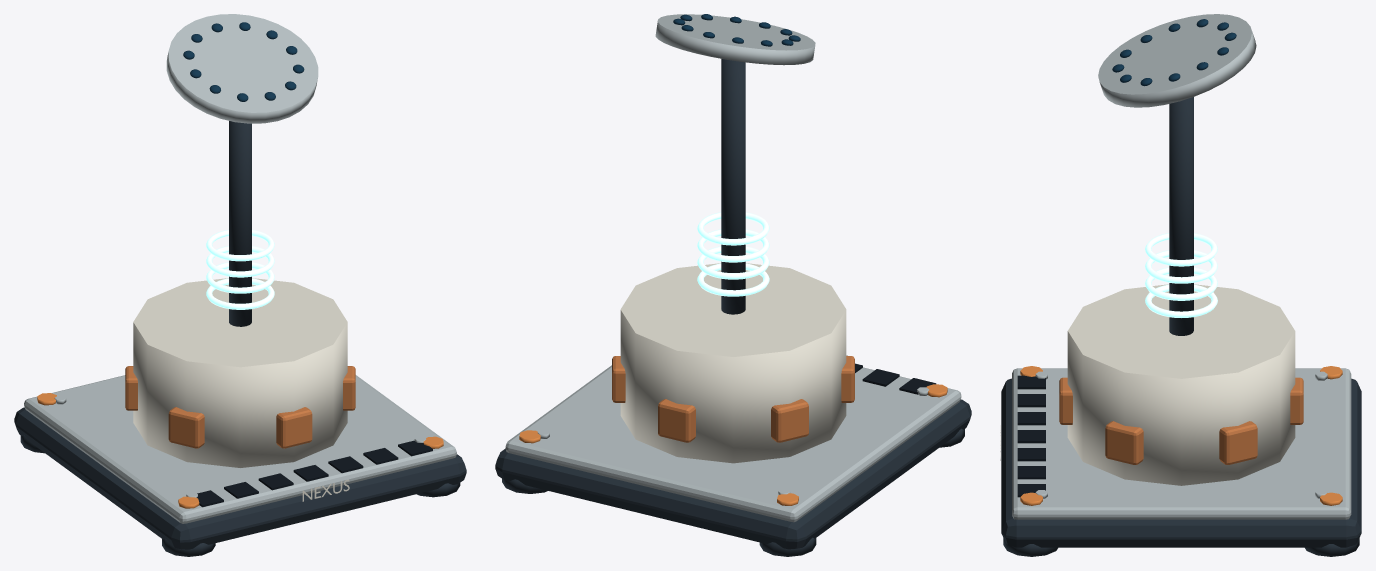
Rendered from relay.glb.
3 views of the same model, side by side, from view 1: azimuth 30°, elevation 25°; view 2: azimuth 150°, elevation 25°; view 3: azimuth 270°, elevation 25° (orthographic). The views are drawn at different scales.
Visible parts, largest first — view 1: relay_ROOT__01_Ivory_ceramic, relay_ROOT__07_Machined_titanium, relay_ROOT__02_Graphite_chassis, Idle_dish__07_Machined_titanium, relay_ROOT__04_Burnished_copper, relay_ROOT__status_light, relay_ROOT__03_Carbon_seals, Idle_dish__08_Photovoltaic_indigo, relay_ROOT__06_Mission_orange; view 2: relay_ROOT__01_Ivory_ceramic, relay_ROOT__07_Machined_titanium, relay_ROOT__02_Graphite_chassis, Idle_dish__07_Machined_titanium, relay_ROOT__04_Burnished_copper, relay_ROOT__status_light, Idle_dish__08_Photovoltaic_indigo, relay_ROOT__03_Carbon_seals, relay_ROOT__06_Mission_orange; view 3: relay_ROOT__01_Ivory_ceramic, relay_ROOT__07_Machined_titanium, relay_ROOT__02_Graphite_chassis, Idle_dish__07_Machined_titanium, relay_ROOT__04_Burnished_copper, relay_ROOT__status_light, relay_ROOT__03_Carbon_seals, Idle_dish__08_Photovoltaic_indigo, relay_ROOT__06_Mission_orange.
Boxes of the visible parts, x1=… form: relay_ROOT__01_Ivory_ceramic: x1=133, y1=278, x2=349, y2=501; relay_ROOT__07_Machined_titanium: x1=24, y1=375, x2=456, y2=523; relay_ROOT__02_Graphite_chassis: x1=14, y1=121, x2=466, y2=556; Idle_dish__07_Machined_titanium: x1=166, y1=14, x2=318, y2=123; relay_ROOT__04_Burnished_copper: x1=125, y1=366, x2=355, y2=448; relay_ROOT__status_light: x1=206, y1=229, x2=274, y2=309; relay_ROOT__03_Carbon_seals: x1=197, y1=440, x2=432, y2=507; Idle_dish__08_Photovoltaic_indigo: x1=183, y1=22, x2=304, y2=101; relay_ROOT__06_Mission_orange: x1=37, y1=393, x2=443, y2=508; relay_ROOT__01_Ivory_ceramic: x1=620, y1=263, x2=847, y2=463; relay_ROOT__07_Machined_titanium: x1=505, y1=365, x2=961, y2=522; relay_ROOT__02_Graphite_chassis: x1=495, y1=59, x2=971, y2=556; Idle_dish__07_Machined_titanium: x1=655, y1=14, x2=815, y2=65; relay_ROOT__04_Burnished_copper: x1=612, y1=356, x2=854, y2=442; relay_ROOT__status_light: x1=697, y1=212, x2=769, y2=296; Idle_dish__08_Photovoltaic_indigo: x1=673, y1=14, x2=800, y2=46; relay_ROOT__03_Carbon_seals: x1=855, y1=363, x2=936, y2=394; relay_ROOT__06_Mission_orange: x1=519, y1=384, x2=947, y2=505; relay_ROOT__01_Ivory_ceramic: x1=1000, y1=284, x2=1295, y2=485; relay_ROOT__07_Machined_titanium: x1=1012, y1=368, x2=1351, y2=519; relay_ROOT__02_Graphite_chassis: x1=1001, y1=97, x2=1361, y2=556; Idle_dish__07_Machined_titanium: x1=1098, y1=14, x2=1256, y2=107; relay_ROOT__04_Burnished_copper: x1=1059, y1=377, x2=1303, y2=464; relay_ROOT__status_light: x1=1145, y1=233, x2=1217, y2=317; relay_ROOT__03_Carbon_seals: x1=1017, y1=375, x2=1045, y2=497; Idle_dish__08_Photovoltaic_indigo: x1=1112, y1=19, x2=1236, y2=86; relay_ROOT__06_Mission_orange: x1=1020, y1=366, x2=1342, y2=505.
Bounding box in the file's own units: 3.8 × 5.23 × 3.81.
